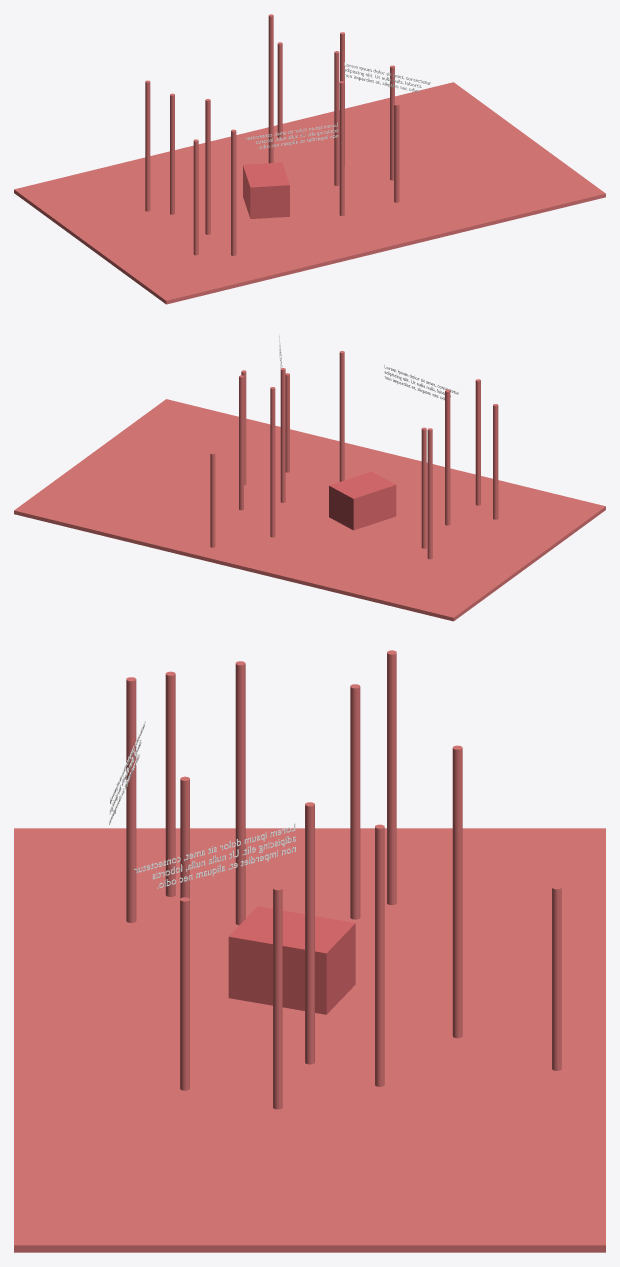
The model's file is red-swamp.glb.
3 renders of one model, top to bottom at view 1: azimuth 30°, elevation 25°; view 2: azimuth 150°, elevation 25°; view 3: azimuth 270°, elevation 25°, orthographic. The views are drawn at different scales.
Parts seen in each view (by area): view 1: Cube, Cube.001, Cylinder.011, Cylinder.007, Cylinder.001, Cylinder, Cylinder.010, Cylinder.006, Cylinder.008, Texxxxt.001, Texxxxt, Cylinder.005 (+3 smaller); view 2: Cube, Cube.001, Cylinder.011, Cylinder.007, Cylinder, Cylinder.010, Cylinder.001, Cylinder.006, Cylinder.005, Cylinder.008, Cylinder.003, Cylinder.009 (+2 smaller); view 3: Cube, Cube.001, Cylinder.011, Cylinder.007, Cylinder, Cylinder.003, Cylinder.006, Cylinder.005, Cylinder.010, Cylinder.008, Cylinder.004, Cylinder.002 (+3 smaller).
Part boxes in pixels (x1,y1,x2,y2): Cube: [14, 82, 605, 304]; Cube.001: [243, 162, 289, 218]; Cylinder.011: [268, 14, 273, 163]; Cylinder.007: [205, 99, 210, 234]; Cylinder.001: [339, 81, 344, 215]; Cylinder: [334, 51, 339, 185]; Cylinder.010: [145, 80, 150, 211]; Cylinder.006: [231, 129, 236, 255]; Cylinder.008: [193, 139, 198, 255]; Texxxxt.001: [246, 122, 338, 148]; Texxxxt: [344, 62, 430, 92]; Cylinder.005: [170, 93, 174, 214]; Cube: [14, 399, 605, 621]; Cube.001: [329, 471, 396, 530]; Cylinder.011: [270, 387, 275, 537]; Cylinder.007: [445, 389, 450, 525]; Cylinder: [280, 368, 285, 502]; Cylinder.010: [427, 428, 432, 559]; Cylinder.001: [339, 351, 344, 481]; Cylinder.006: [475, 379, 480, 505]; Cylinder.005: [421, 427, 426, 548]; Cylinder.008: [493, 404, 498, 519]; Cylinder.003: [239, 375, 243, 510]; Cylinder.009: [210, 452, 215, 547]; Cube: [14, 828, 605, 1252]; Cube.001: [228, 906, 355, 1014]; Cylinder.011: [452, 745, 462, 1038]; Cylinder.007: [235, 661, 245, 925]; Cylinder: [305, 802, 314, 1064]; Cylinder.003: [375, 824, 384, 1086]; Cylinder.006: [126, 677, 136, 922]; Cylinder.005: [350, 684, 360, 919]; Cylinder.010: [387, 650, 396, 904]; Cylinder.008: [165, 671, 175, 896]; Cylinder.004: [273, 886, 282, 1109]; Cylinder.002: [180, 897, 189, 1090].
Size of the model in its own units: 100 by 33.06 by 60.
